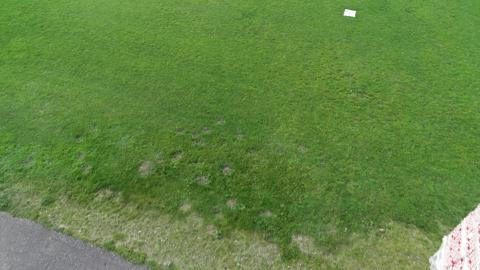RockwoolPallet: (436, 202, 479, 270)
